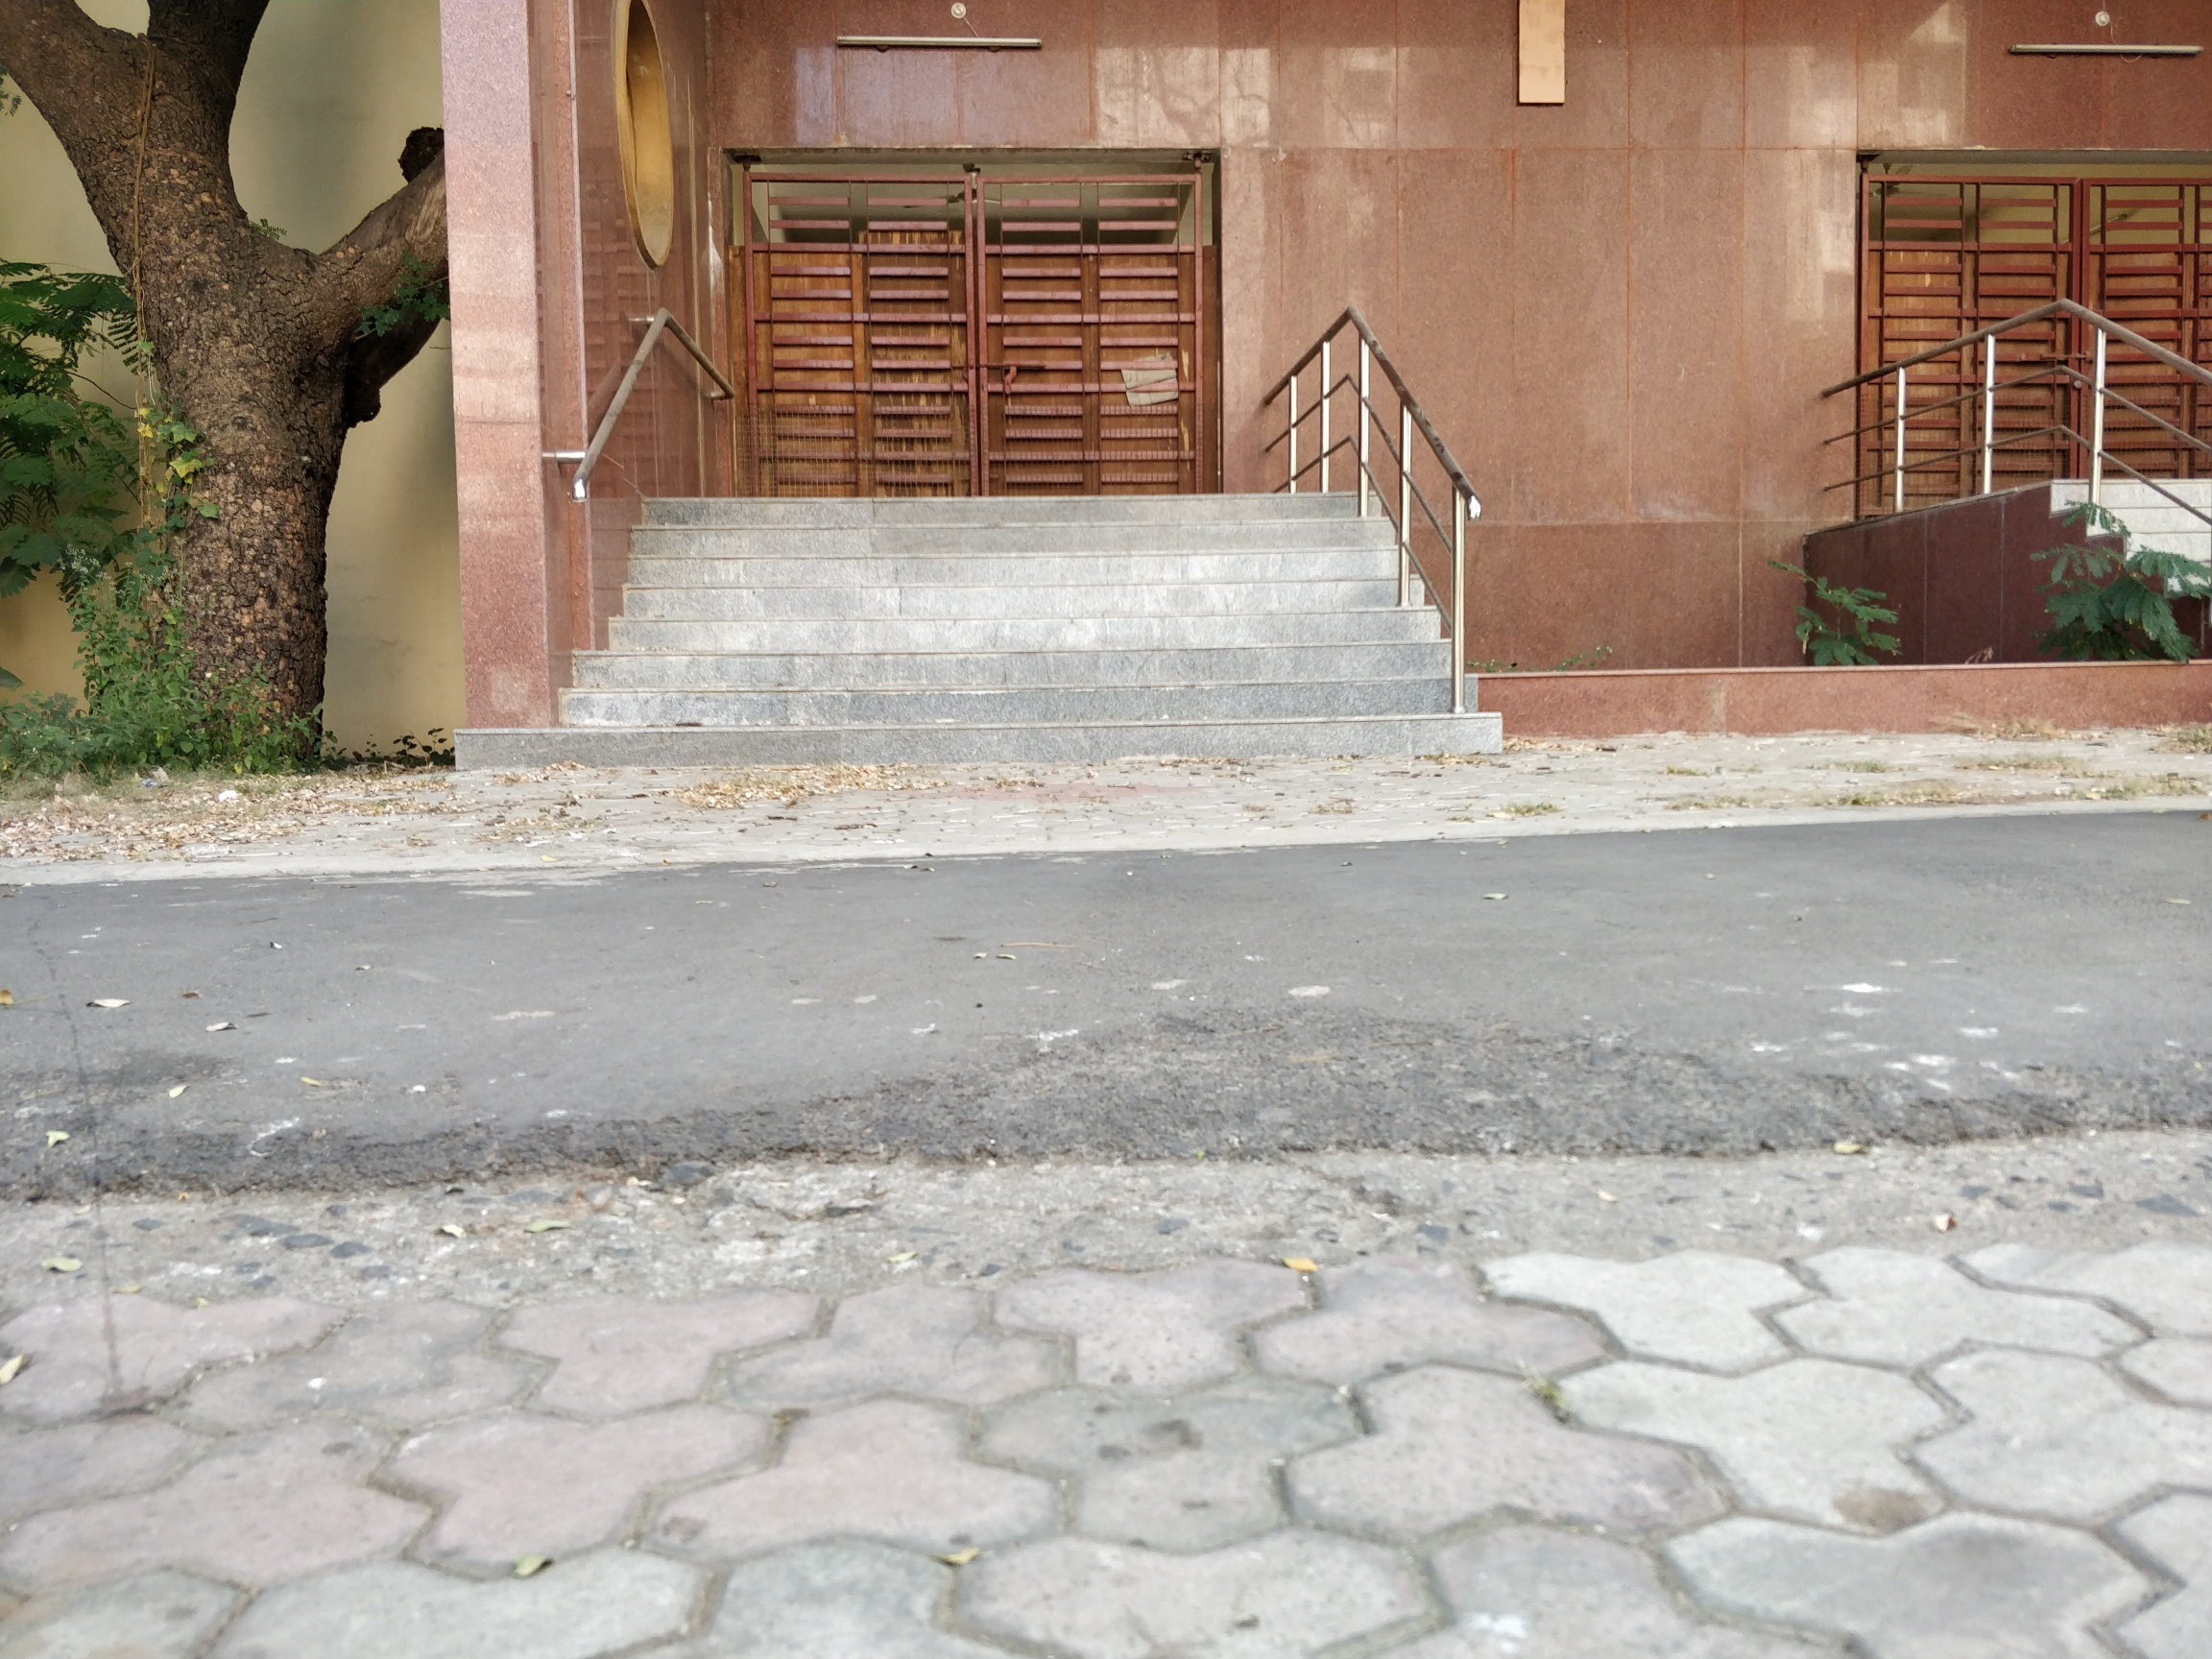stairs_up: (540, 491, 1498, 770)
